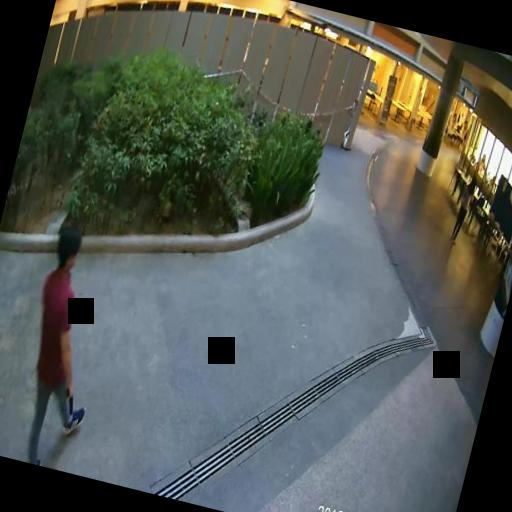Handgun: (58, 382, 78, 416)
